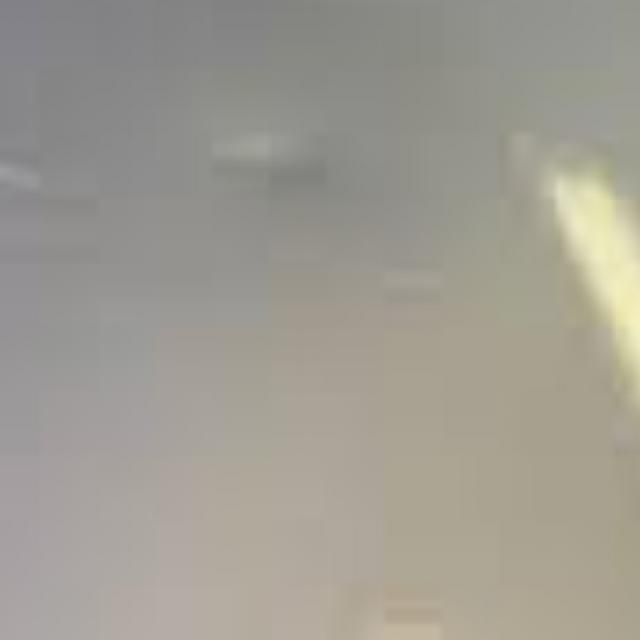dents: (201, 112, 335, 215), (8, 114, 105, 255), (363, 257, 451, 304)
